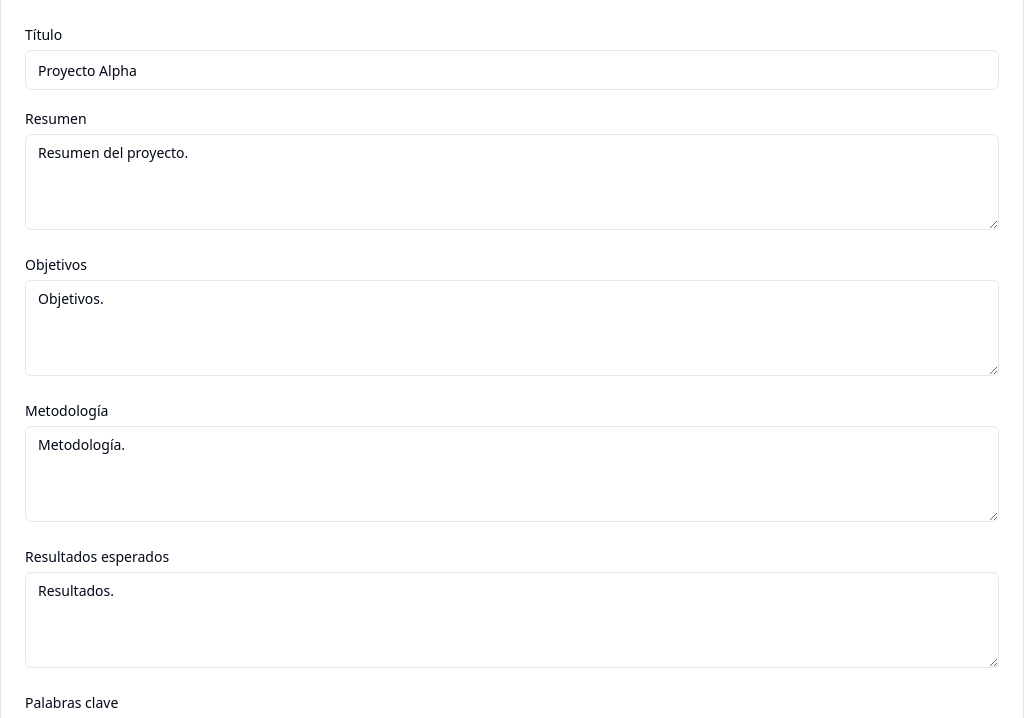
Scenario: ProjectForm — zod validation › rejects an empty title and does not PATCH
The width and height of the screenshot is (1024, 718).
Clear the field named "título" at [512, 70], box [25,50,999,90]
(page scrolled)
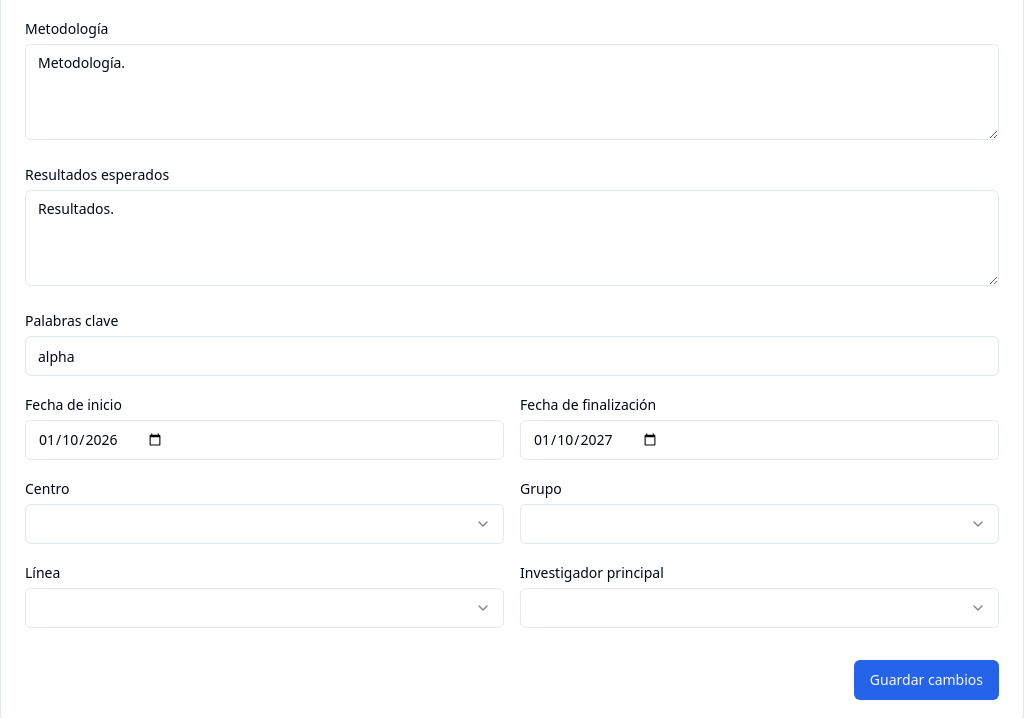
Click the button "Guardar cambios" at [926, 680], box [854,660,999,700]
(page scrolled)
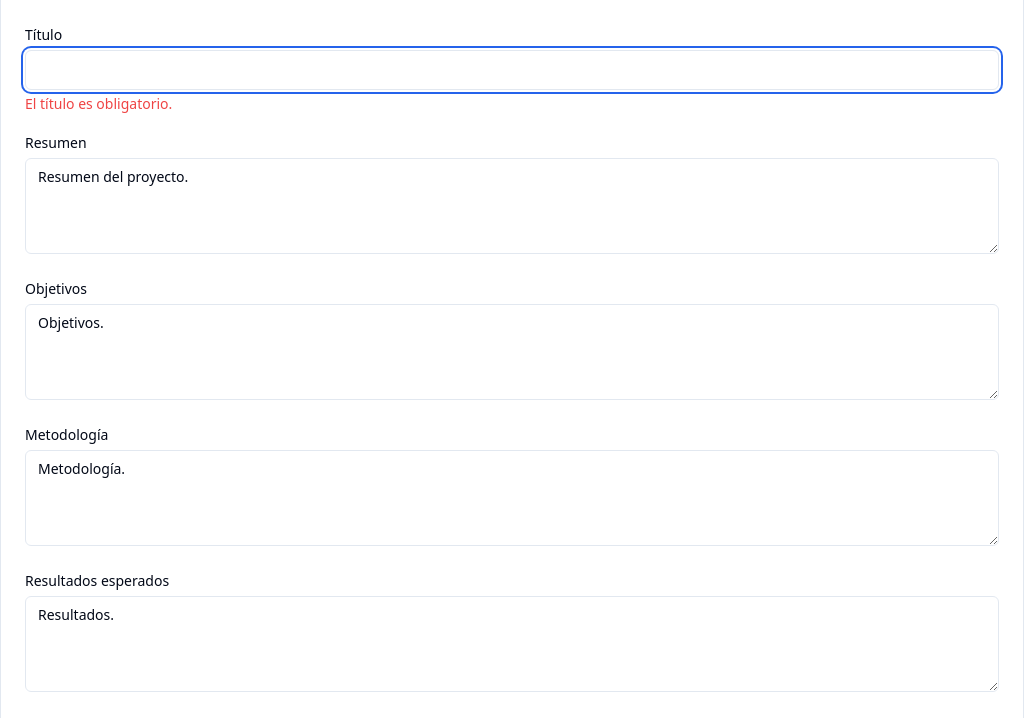
Expected: the text "El título es obligatorio." is shown, [25,94,172,113]
